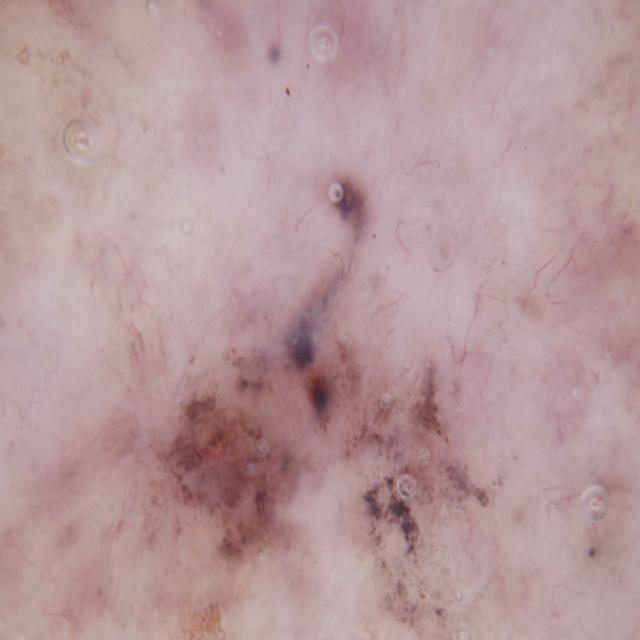Carcinoma: (101, 116, 563, 640)
